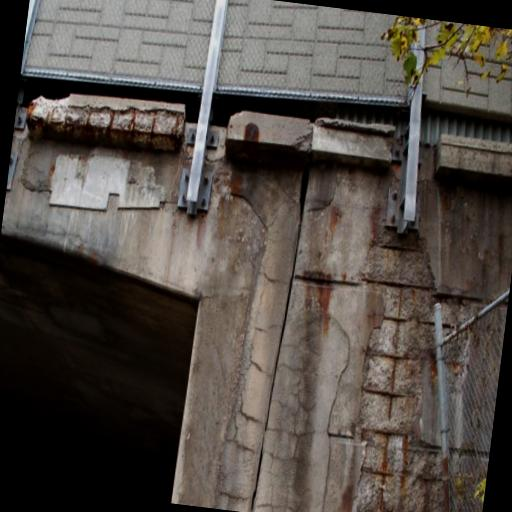spalling: (351, 284, 443, 512), (27, 103, 182, 152)
